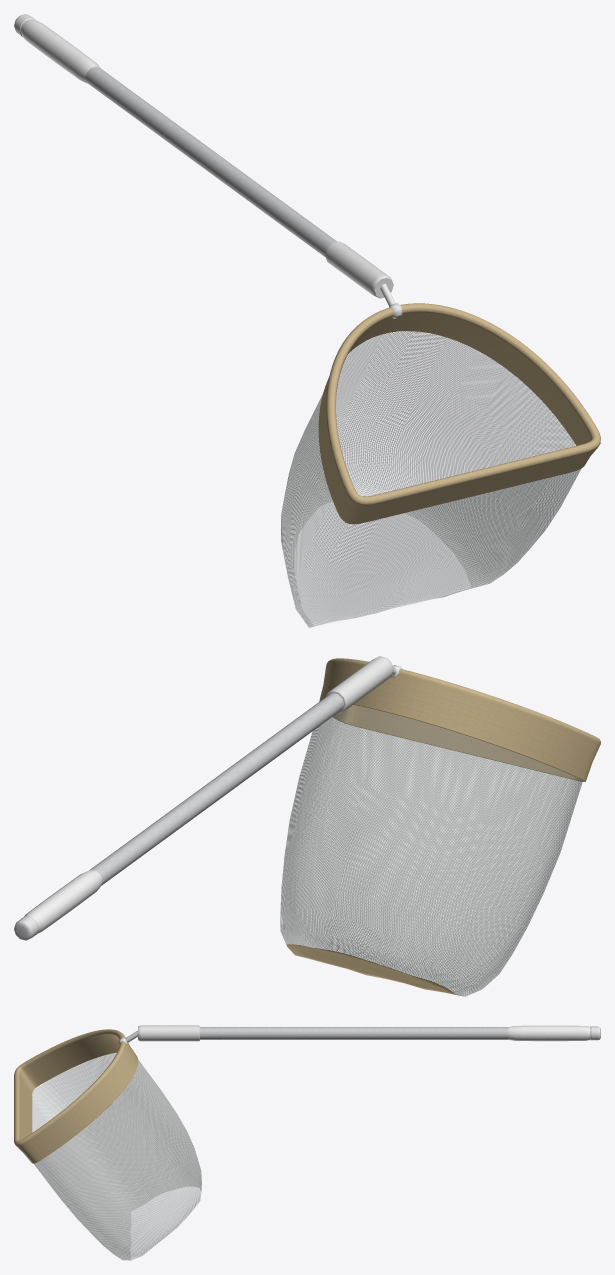
The model's file is net_dframe.lod2.glb.
3 views of the same model, one above another, from view 1: azimuth 30°, elevation 25°; view 2: azimuth 150°, elevation 25°; view 3: azimuth 270°, elevation 25° (orthographic). The views are drawn at different scales.
Parts seen in each view (by area): view 1: Bag, Frame, Handle; view 2: Bag, Frame, Handle; view 3: Bag, Frame, Handle.
Part boxes in pixels (x1,y1,x2,y2): Bag: (281, 331, 580, 627); Frame: (318, 283, 600, 524); Handle: (14, 14, 393, 298); Bag: (280, 705, 582, 996); Frame: (319, 658, 600, 781); Handle: (14, 656, 393, 940); Bag: (32, 1053, 201, 1260); Frame: (14, 1029, 138, 1163); Handle: (138, 1025, 600, 1041).
Size of the model in its own units: 0.3608 by 0.4505 by 1.14.
6 materials, 6 textured.
